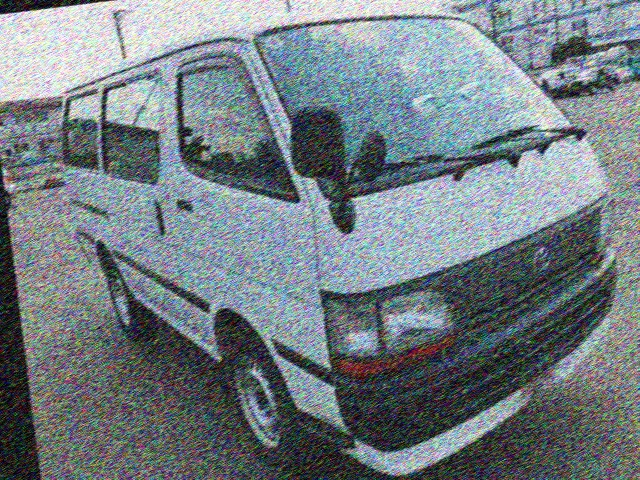van: (50, 0, 640, 480)
